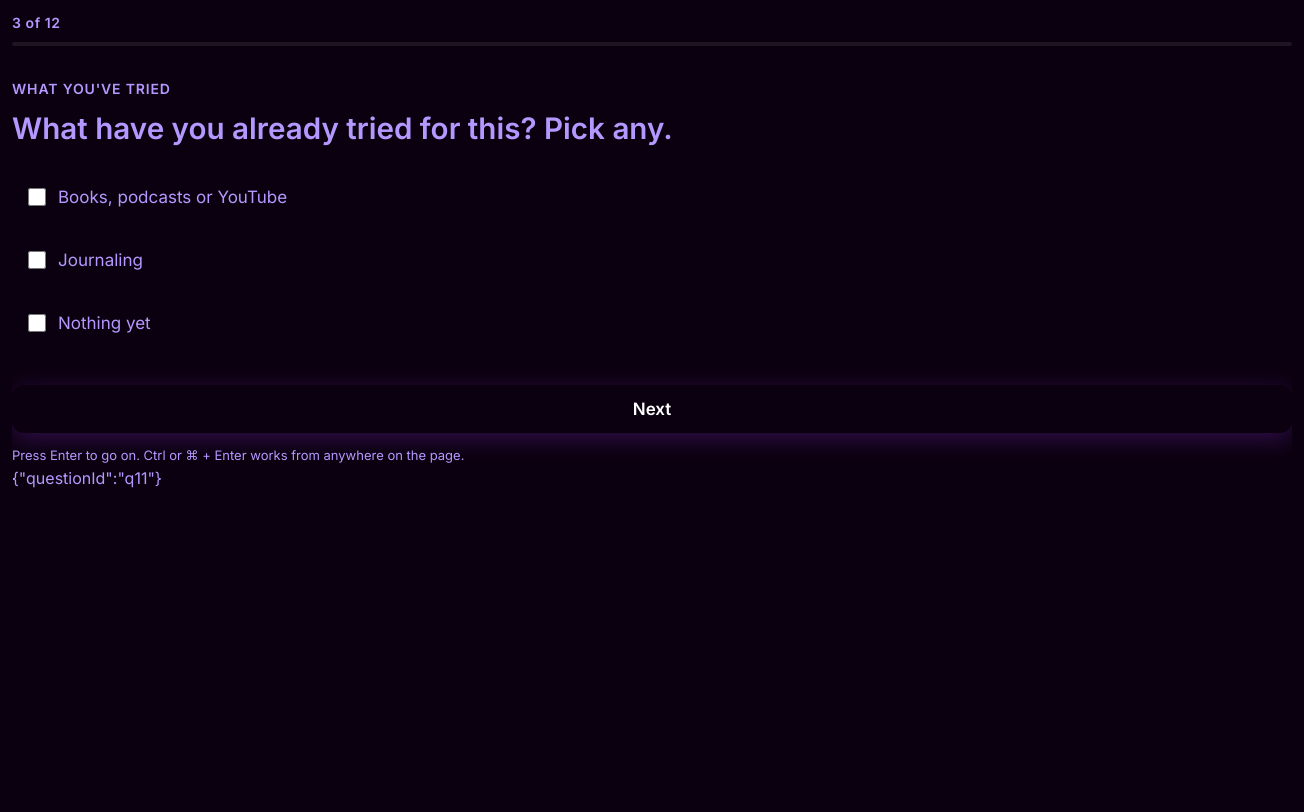
Test: QuestionScreen › Q11: the outcome follow-up appears after a pick and "Nothing yet" clears it
This screenshot has width=1304, height=812.
Expected: the element "What happened, mostly?" is not shown
Click the checkbox labelled "Journaling".
click(37, 260)  # box x1=28 y1=251 x2=46 y2=269
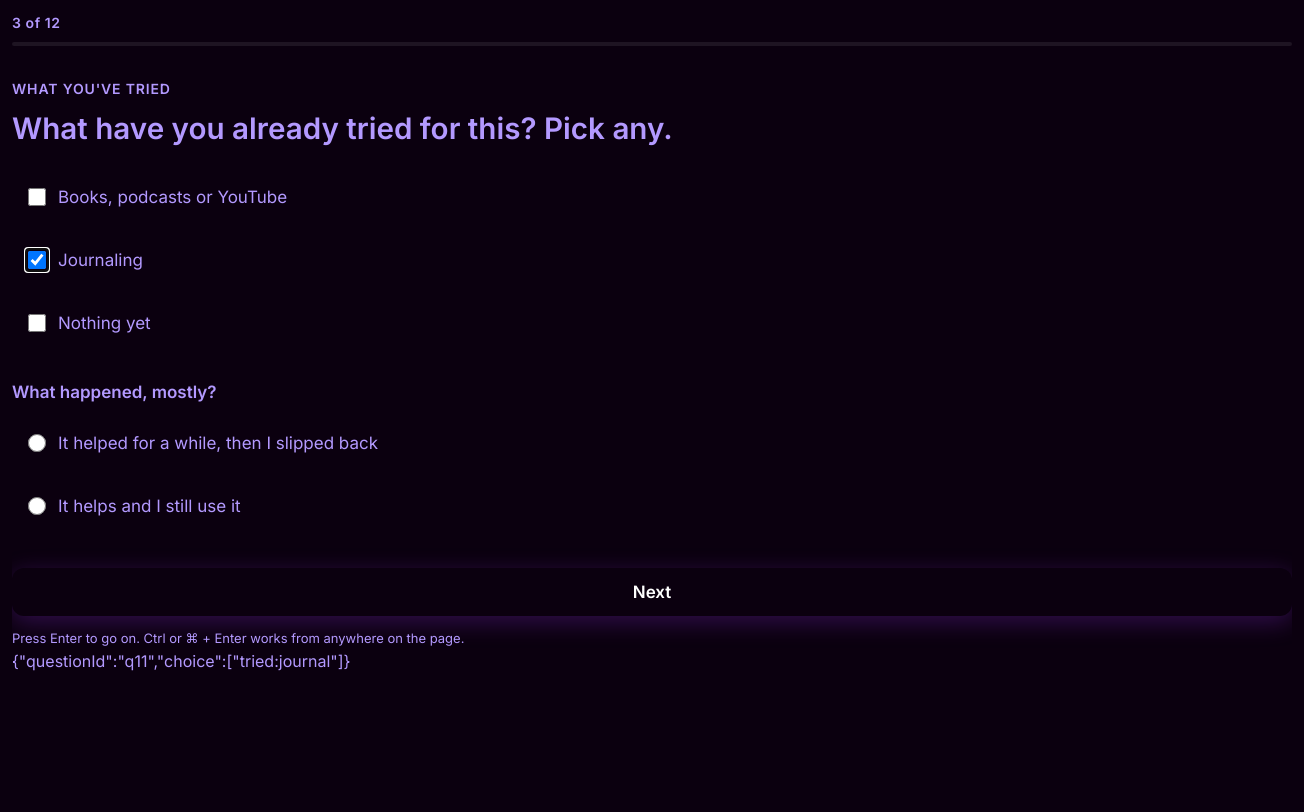
Click the radio button labelled "It helped for a while, then I slipped back".
click(37, 443)  # box x1=28 y1=434 x2=46 y2=452
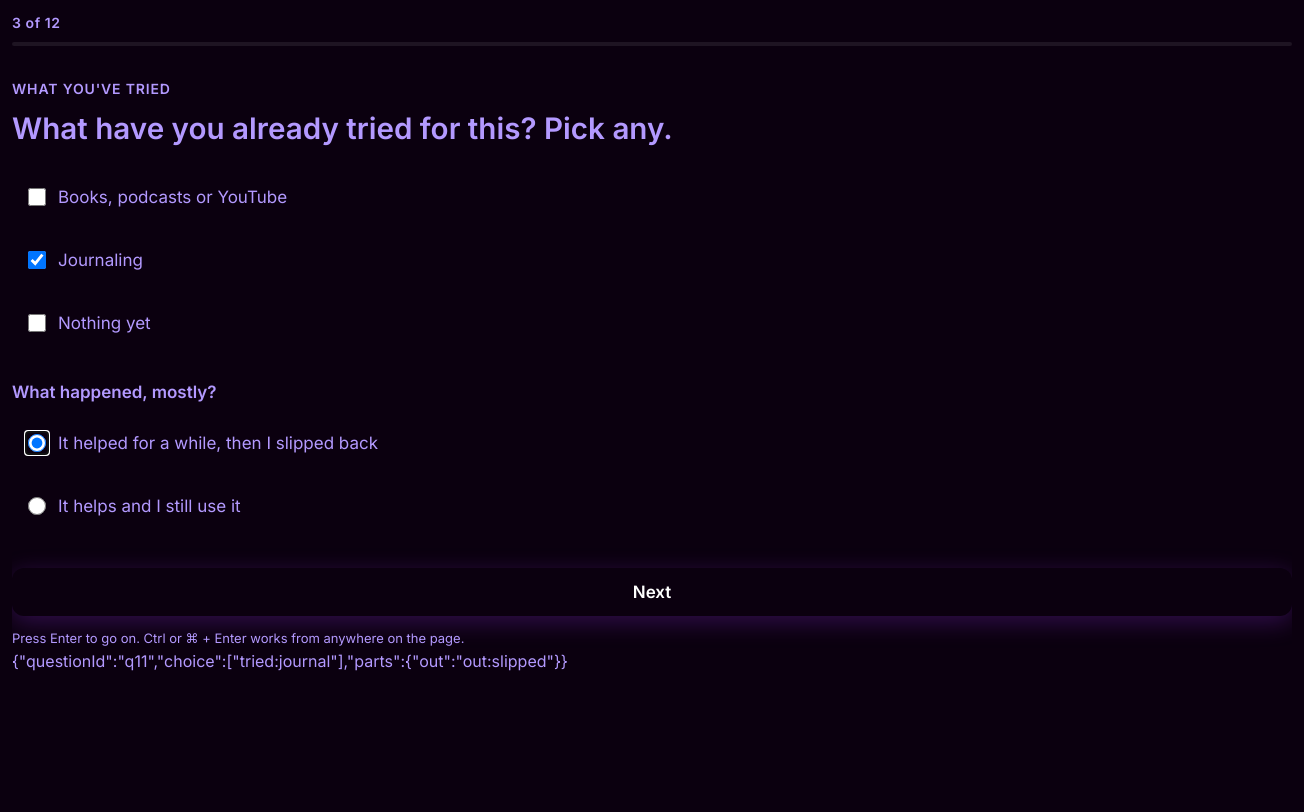
Click the checkbox labelled "Nothing yet".
click(37, 322)  # box x1=28 y1=314 x2=46 y2=332
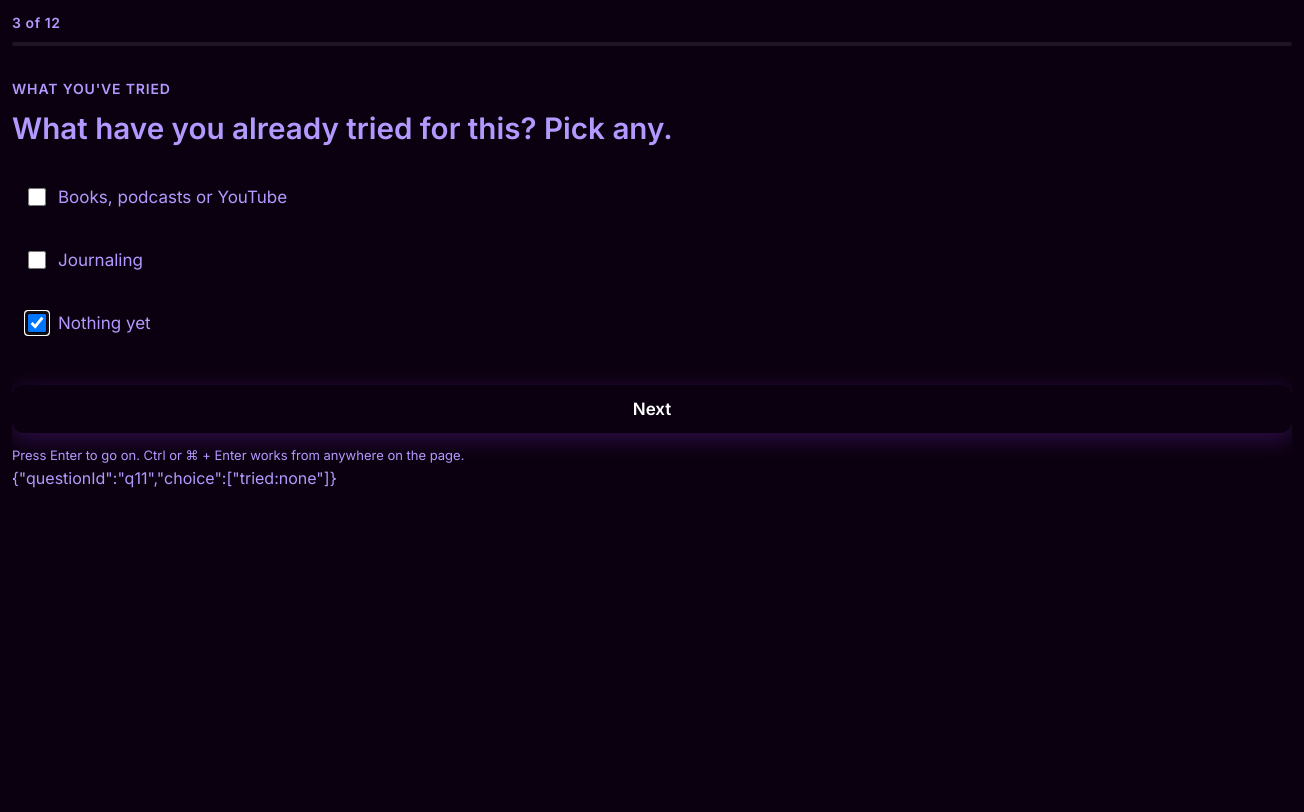
Now the text "What happened, mostly?" is gone
